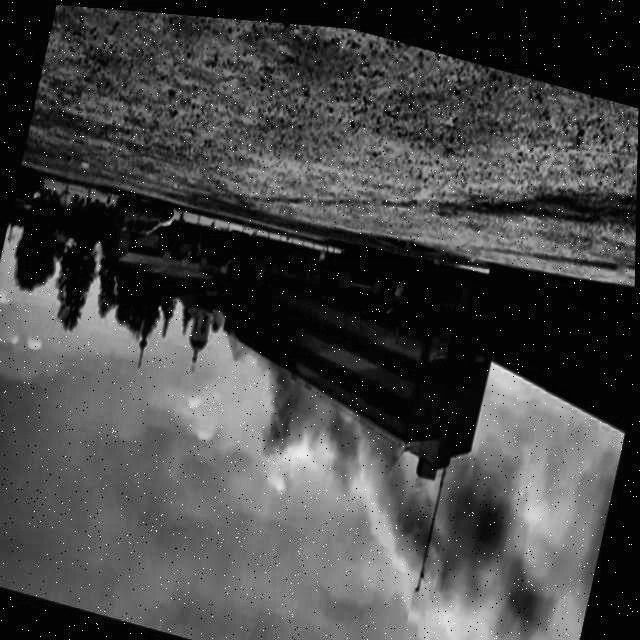Smoke: (226, 362, 576, 640)
